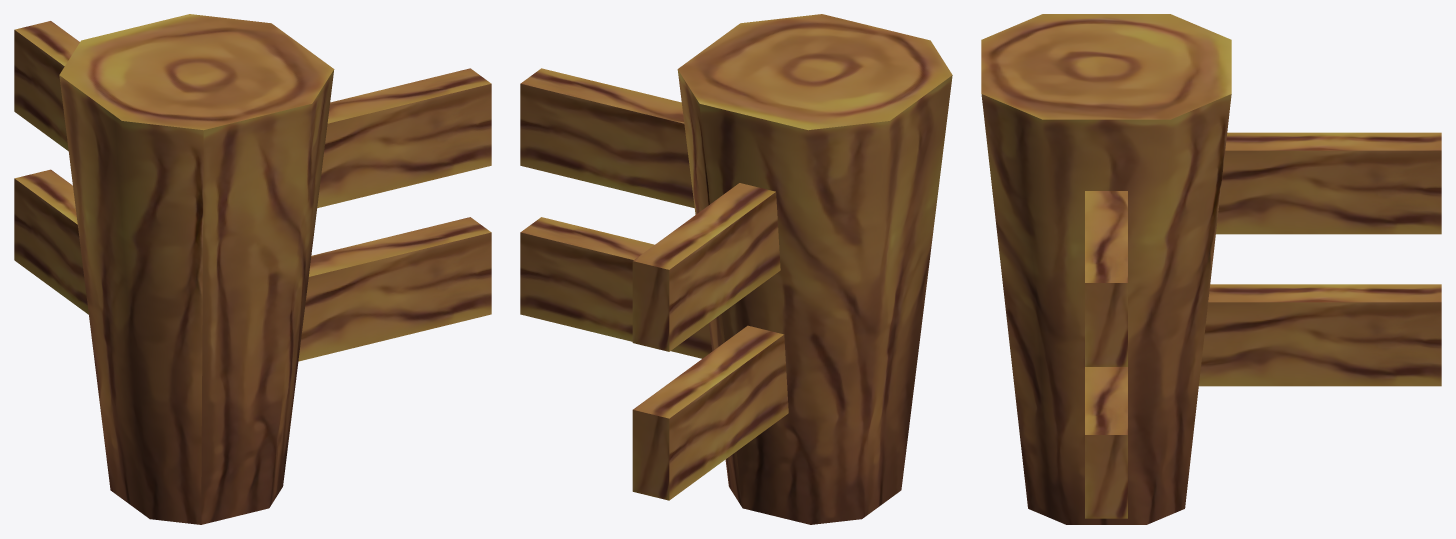
File: Woodfence Corner_HD.fbx
The picture shows the model from 3 angles, left to right: view 1: azimuth 30°, elevation 25°; view 2: azimuth 150°, elevation 25°; view 3: azimuth 270°, elevation 25°; orthographic projection. The views are drawn at different scales.
Visible parts, largest first — view 1: Woodfence_corner; view 2: Woodfence_corner; view 3: Woodfence_corner.
Boxes of the visible parts, <box> form: Woodfence_corner: <box>14,14,491,524</box>; Woodfence_corner: <box>520,14,952,524</box>; Woodfence_corner: <box>981,14,1441,524</box>.
Bounding box in the file's own units: 0.6867 × 0.7 × 0.6867.
